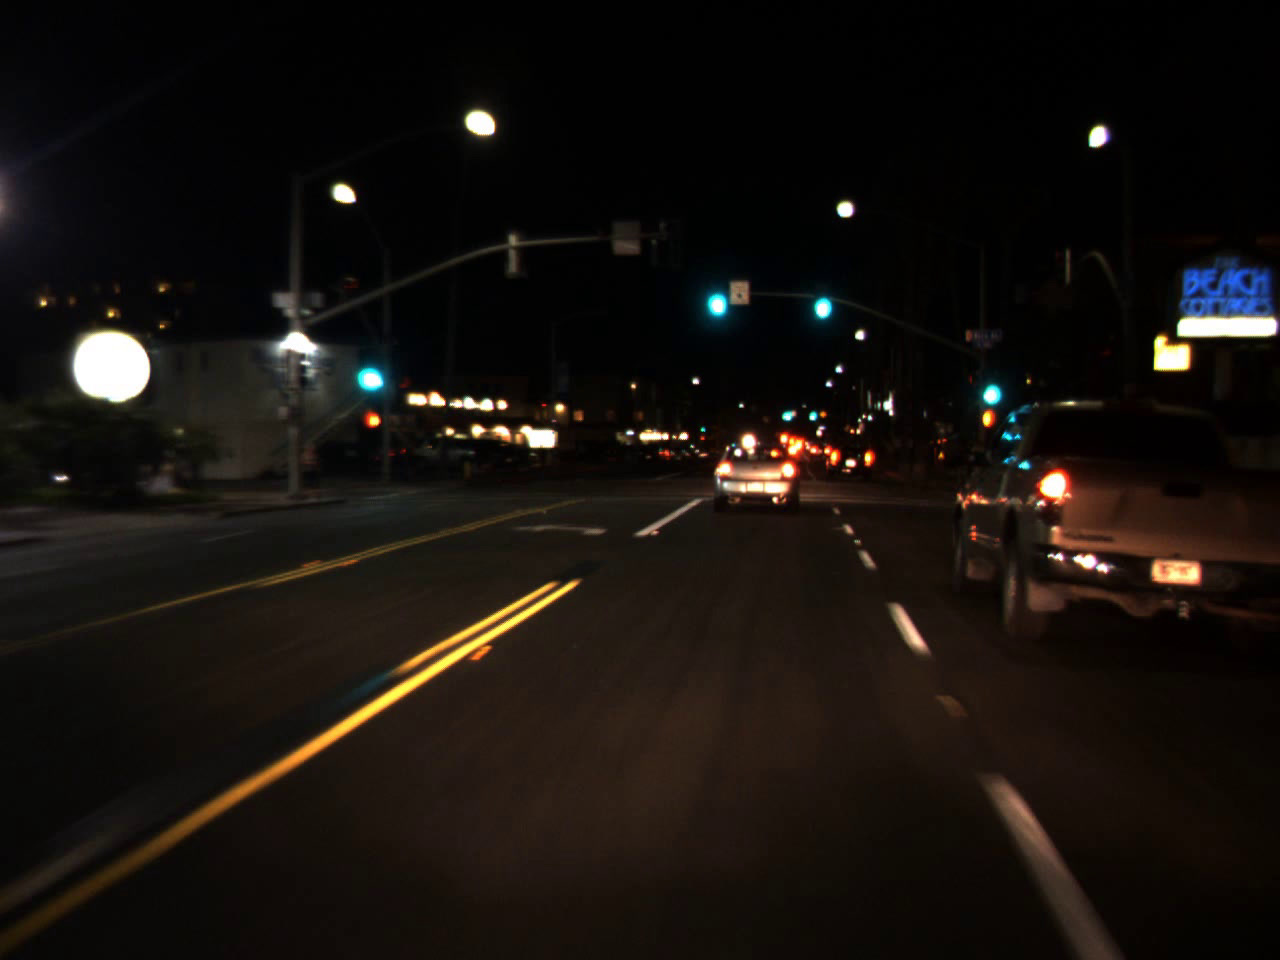go: (345, 335, 390, 401), (699, 262, 731, 325), (807, 270, 835, 327), (976, 359, 1004, 413), (778, 400, 794, 424), (808, 402, 817, 423)
